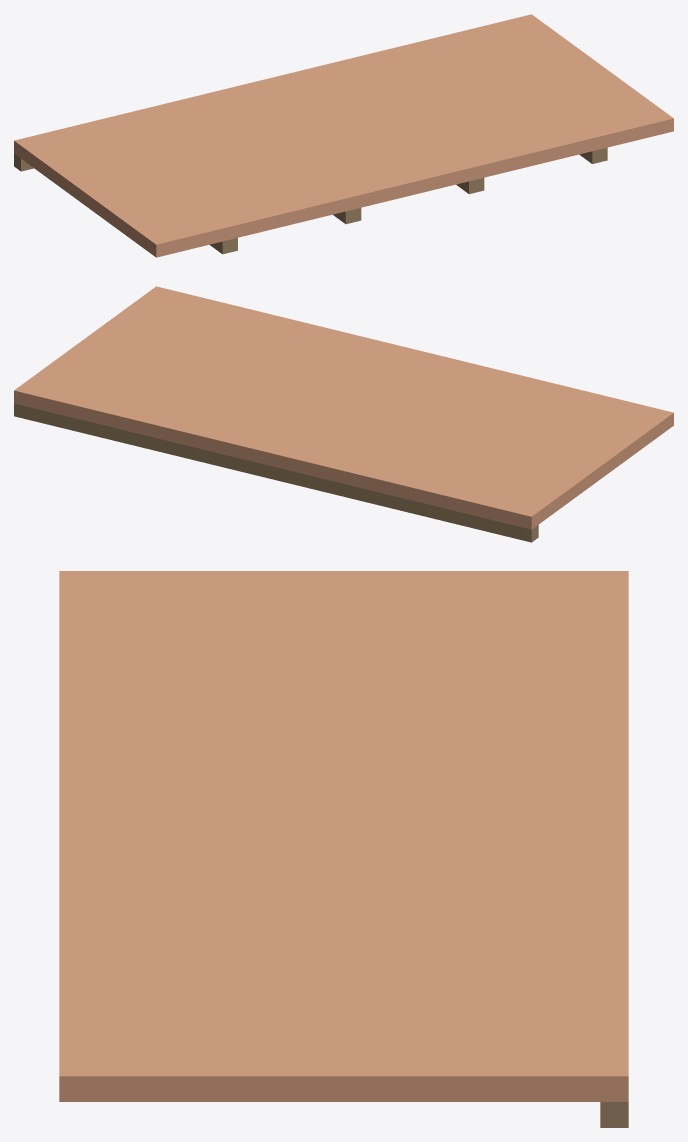
Rendered from SD_Roof.fbx.
3 renders of one model, top to bottom at view 1: azimuth 30°, elevation 25°; view 2: azimuth 150°, elevation 25°; view 3: azimuth 270°, elevation 25°, orthographic. The views are drawn at different scales.
Parts seen in each view (by area): view 1: SD_Roof; view 2: SD_Roof; view 3: SD_Roof.
Boxes of the visible parts, x1,y1,x2,y2 form: SD_Roof: (14,14,673,257); SD_Roof: (14,286,673,542); SD_Roof: (59,571,628,1127).
Bounding box in the file's own units: 8.4 × 0.4 × 4.
